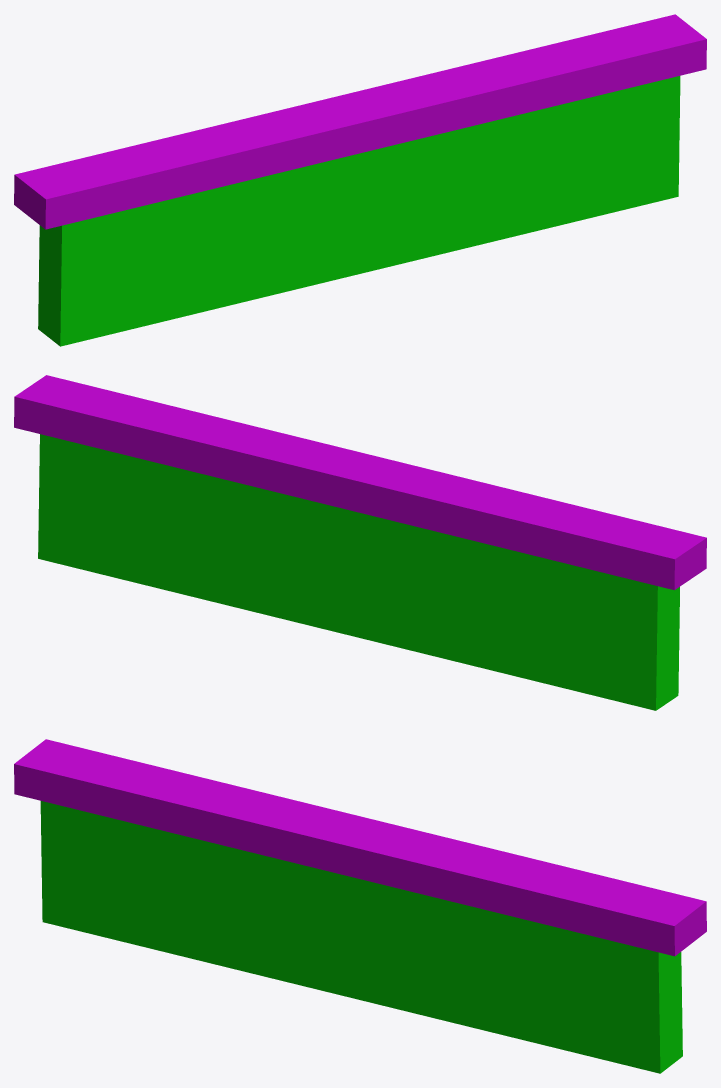
Rendered from barrea.fbx.
The picture shows the model from 3 angles, top to bottom: view 1: azimuth 30°, elevation 25°; view 2: azimuth 150°, elevation 25°; view 3: azimuth 330°, elevation 25°; orthographic projection.
Visible parts, largest first — view 1: Barrera.001; view 2: Barrera.001; view 3: Barrera.001.
Boxes of the visible parts, <box> form: Barrera.001: <box>14,14,706,346</box>; Barrera.001: <box>14,375,706,710</box>; Barrera.001: <box>14,739,706,1073</box>.
Size of the model in its own units: 12.04 by 2.78 by 1.06.
